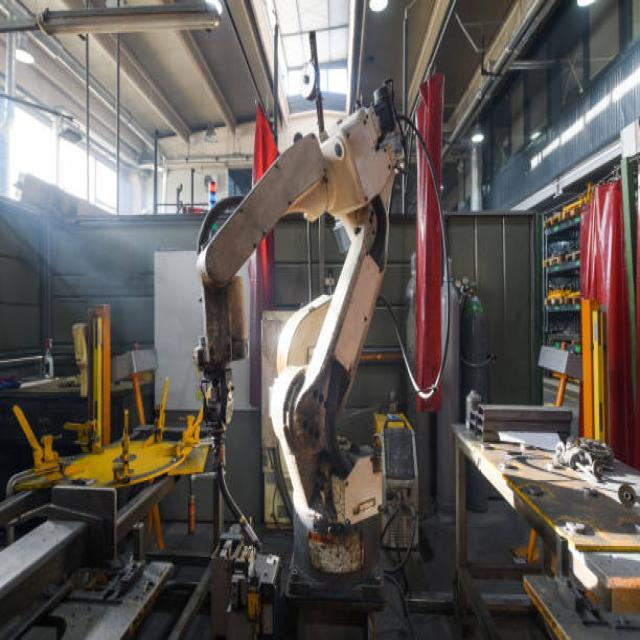Robotic-arm: (190, 84, 401, 546)
